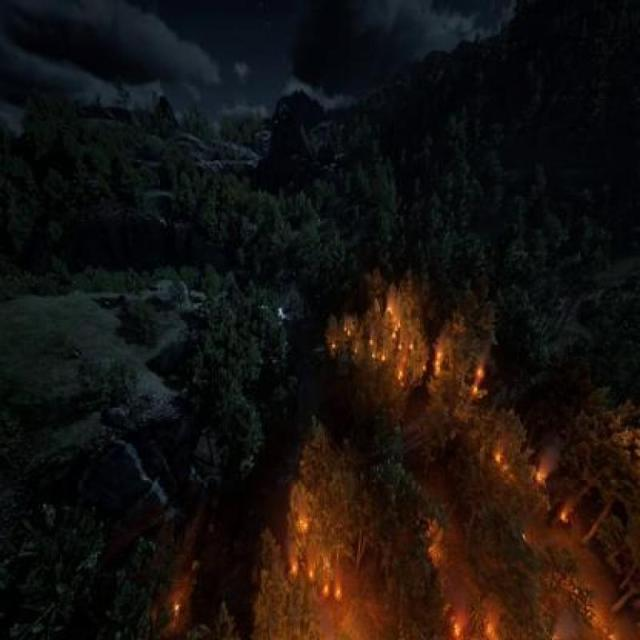Fire: (278, 273, 598, 640)
